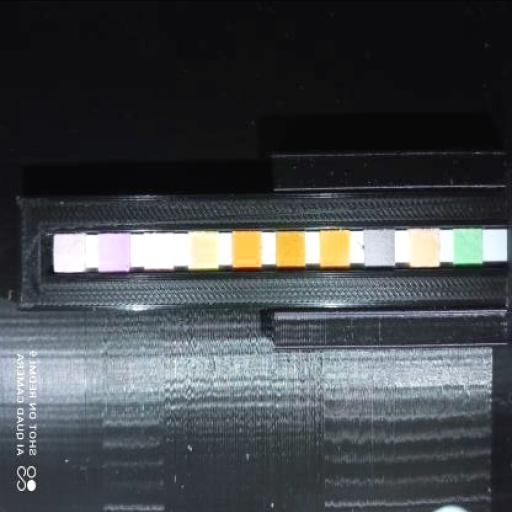Bilirubin: (411, 228, 439, 265)
Blood: (277, 231, 305, 265)
Glucose: (454, 228, 482, 262)
Ketone: (364, 230, 394, 264)
Leukocytes: (54, 234, 84, 270)
Nitrite: (100, 234, 130, 270)
Protein: (190, 231, 218, 267)
SpGravity: (320, 230, 350, 264)
Urobilinogen: (144, 234, 174, 268)
pH: (232, 232, 260, 266)
strip: (52, 228, 506, 267)
